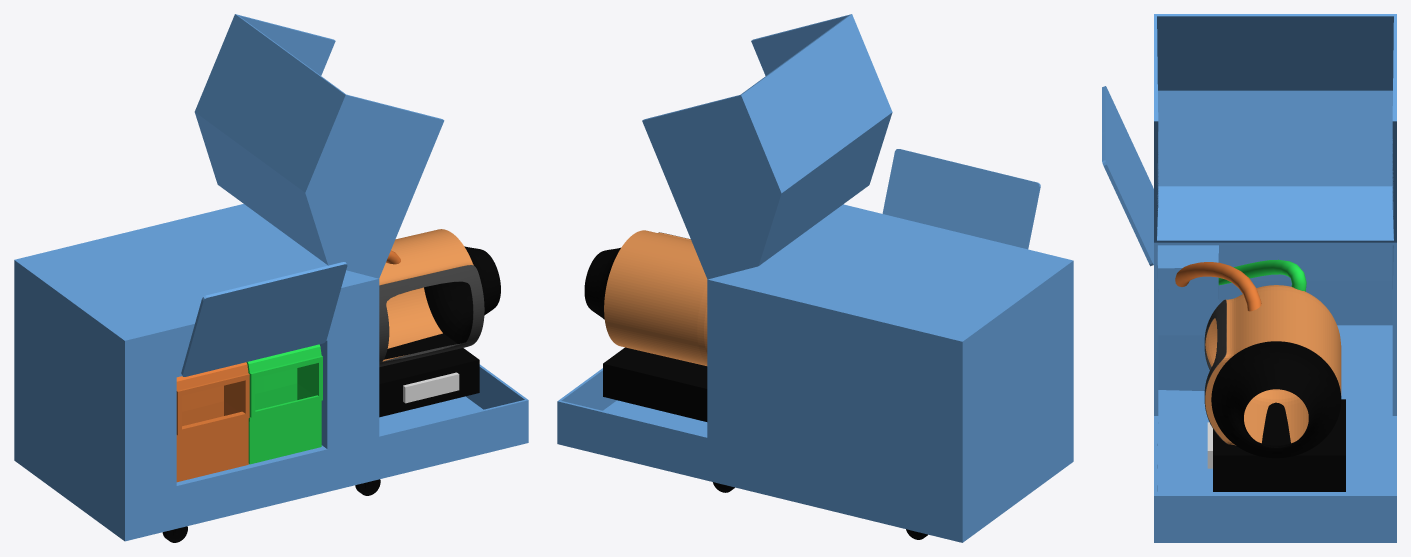
The model's file is TimeTravelGarbageBin.fbx.
3 renders of one model, left to right at view 1: azimuth 30°, elevation 25°; view 2: azimuth 150°, elevation 25°; view 3: azimuth 270°, elevation 25°, orthographic. The views are drawn at different scales.
Parts seen in each view (by area): view 1: Body, Back Window, Plane, Mid Window, Organic Bin, InOrganic Bin; view 2: Body, Back Window, Plane, Mid Window; view 3: Back Window, Body, Plane, Mid Window, BezierCurve.001, BezierCurve.
Boxes of the visible parts, x1,y1,x2,y2 form: Body: (14,204,528,541); Back Window: (194,14,444,278); Plane: (379,229,500,417); Mid Window: (181,262,347,376); Organic Bin: (246,344,322,464); InOrganic Bin: (176,362,249,482); Body: (557,204,1073,542); Back Window: (642,14,892,279); Plane: (584,230,707,421); Mid Window: (882,149,1040,249); Back Window: (1154,14,1396,242); Body: (1154,242,1396,542); Plane: (1204,285,1345,491); Mid Window: (1102,86,1153,266); BezierCurve.001: (1175,262,1261,311); BezierCurve: (1218,259,1306,291).
Bounding box in the file's own units: 861 × 816 × 480.
